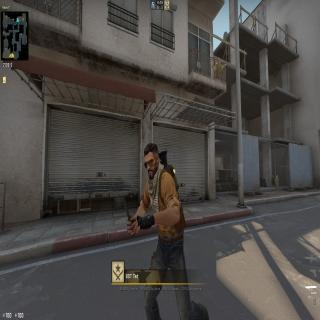T-Head: (142, 139, 160, 182)
